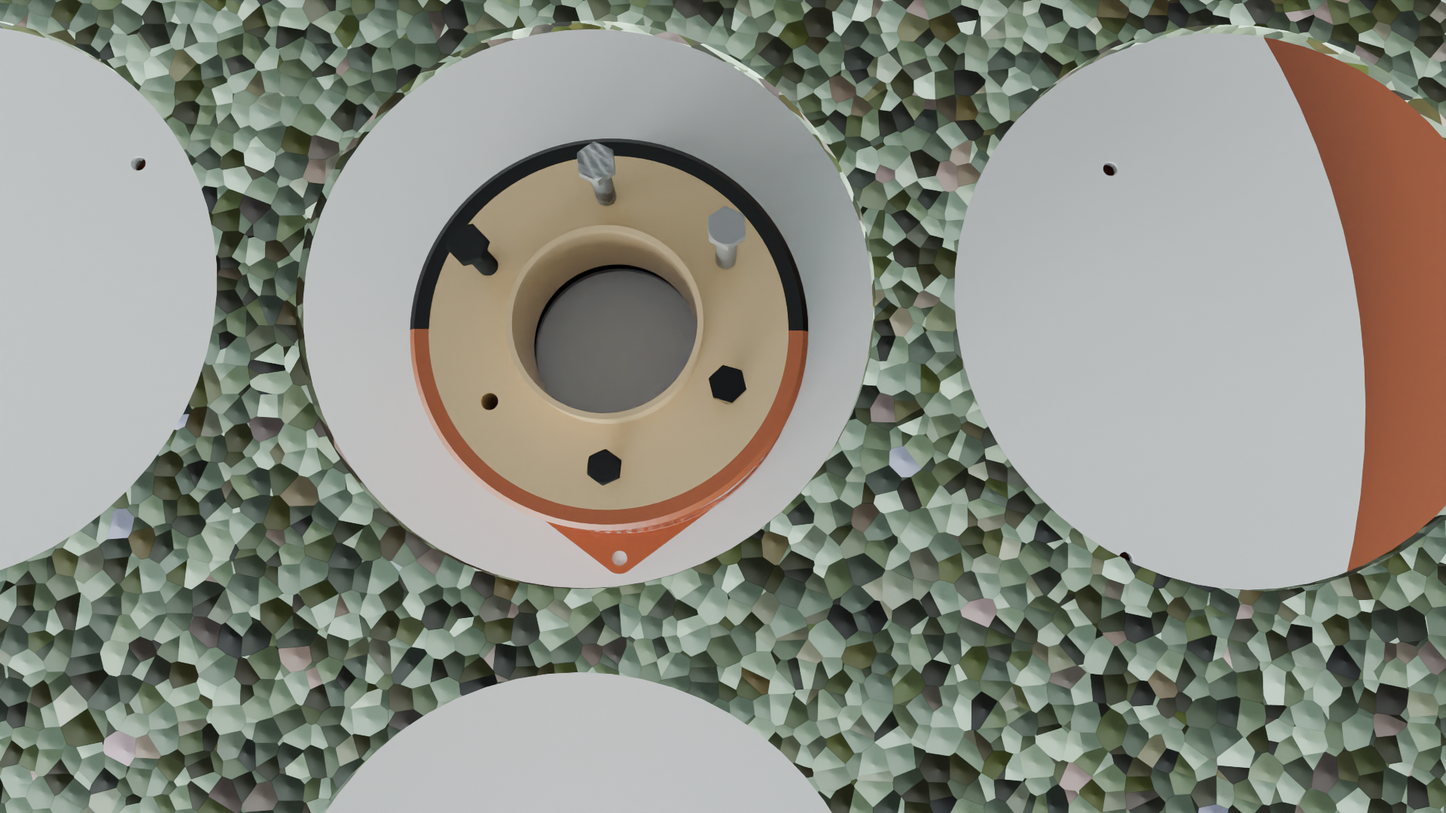bolt: (446, 224, 487, 263), (708, 206, 746, 247), (577, 142, 615, 181), (709, 365, 746, 403), (587, 449, 621, 485)
